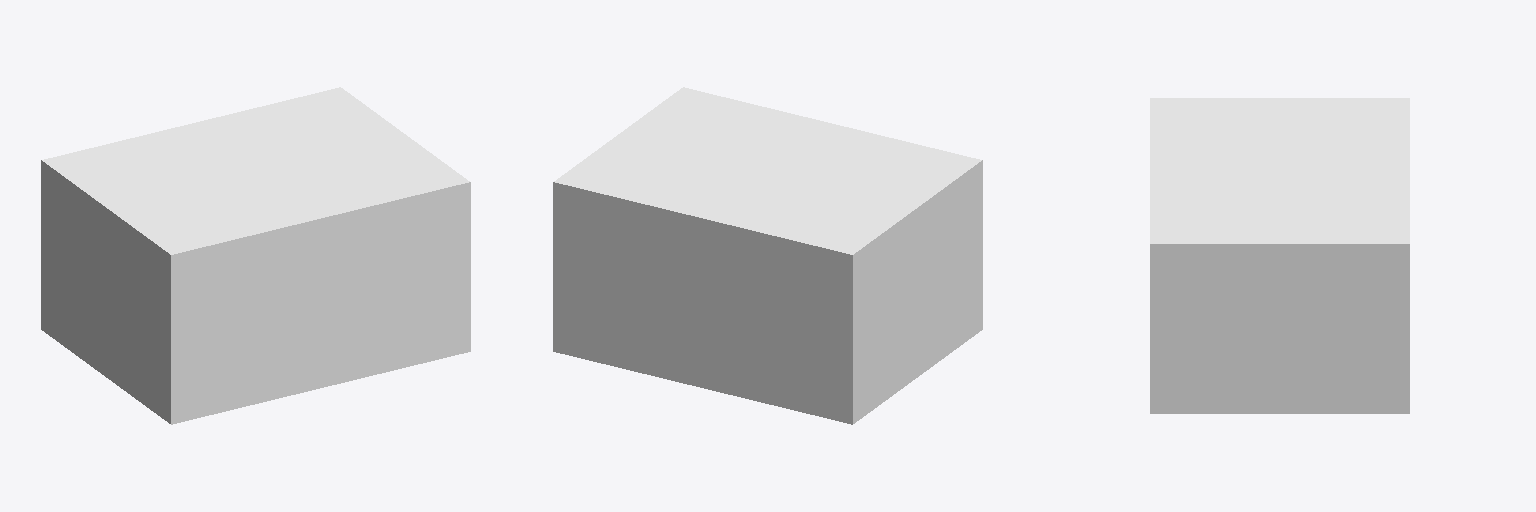
Rendered from house_trunk.obj.
The picture shows the model from 3 angles: view 1: azimuth 30°, elevation 25°; view 2: azimuth 150°, elevation 25°; view 3: azimuth 270°, elevation 25°; orthographic projection.
Parts seen in each view (by area): view 1: house_trunk; view 2: house_trunk; view 3: house_trunk.
Boxes of the visible parts, box(x1,y1,x2,y2) form: house_trunk: box(41, 87, 470, 424); house_trunk: box(553, 87, 982, 424); house_trunk: box(1150, 98, 1409, 413).
Size of the model in its own units: 24 by 13 by 18.